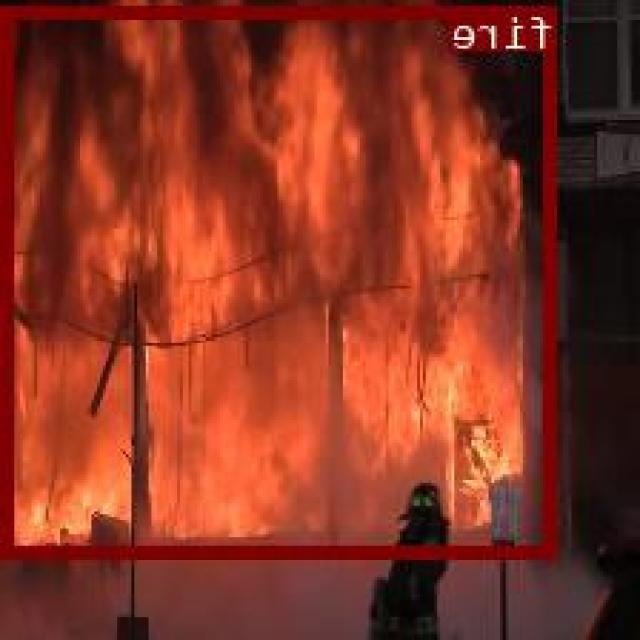fire: (6, 5, 559, 554)
